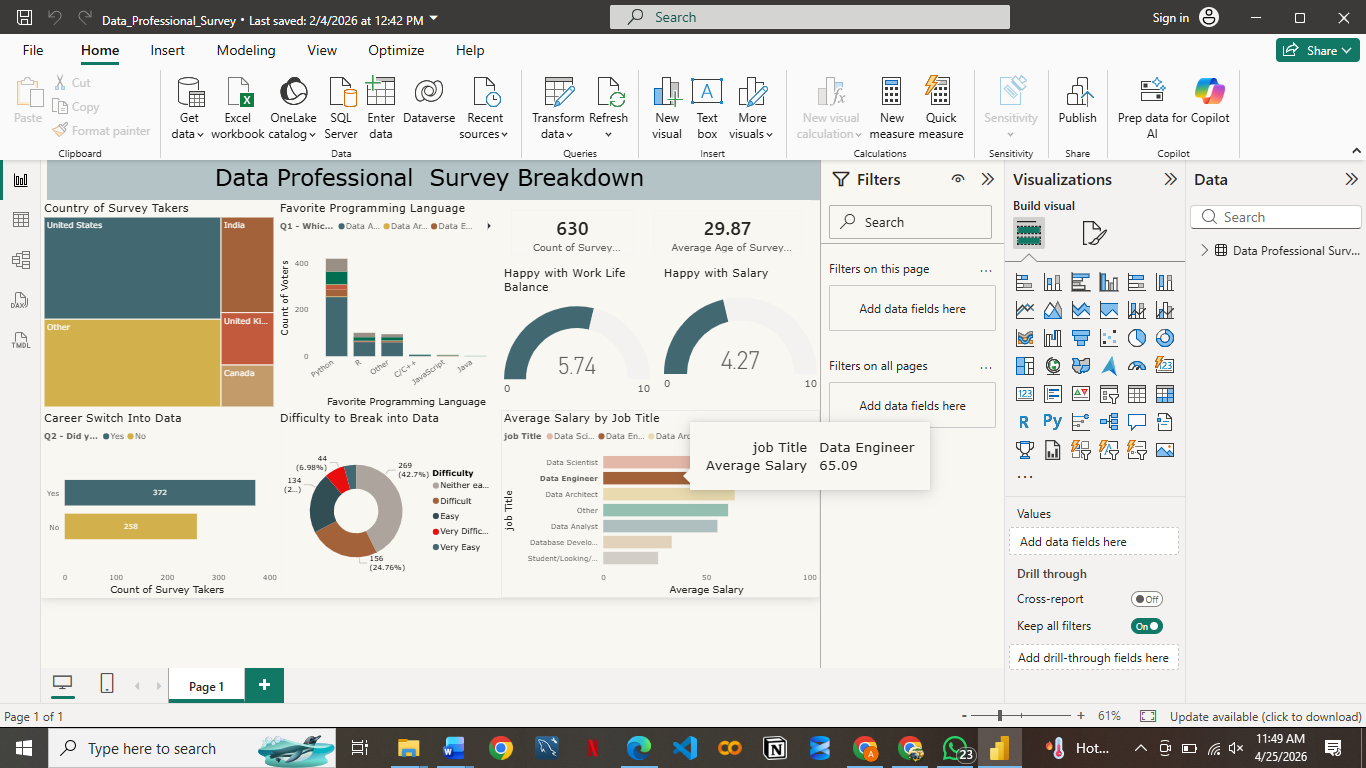

The page's visual inventory and layout, read from the dashboard file:
{"tool":"powerbi","page":{"name":"Page 1","canvas":[1280,720],"ordinal":0},"visuals":[{"type":"textbox","box":[10.1,0,1269.9,65.5],"z":0},{"type":"cardVisual","fields":{"Data":["Count(Data Professional Survey.Unique ID)"]},"box":[755.8,65.7,233.3,106.8],"z":1000},{"type":"cardVisual","fields":{"Data":["Avg(Data Professional Survey.Q10 - Current Age)"]},"box":[989.2,65.7,276,106.8],"z":2000},{"type":"barChart","title":"Average Salary by Job Title","fields":{"Category":["Data Professional Survey.Q1 - Which Title Best Fits your Current Role?.1"],"Y":["Avg(Data Professional Survey.Average Salary)"],"Series":["Data Professional Survey.Q1 - Which Title Best Fits your Current Role?.1"]},"box":[755.8,410.8,524.2,308.9],"z":3000},{"type":"columnChart","title":"Favorite Programming Language","fields":{"Category":["Data Professional Survey.Q5 - Favorite Programming Language.1"],"Y":["Count(Data Professional Survey.Unique ID)"],"Series":["Data Professional Survey.Q1 - Which Title Best Fits your Current Role?.1"]},"box":[387.8,65.7,368.1,345.1],"z":4000},{"type":"gauge","title":"Happy with Work Life Balance","fields":{"Y":["Avg(Data Professional Survey.Q6 - How Happy are you in your Current Position with the following? (Work/Life Balance))"],"MinValue":["Min(Data Professional Survey.Q6 - How Happy are you in your Current Position with the following? (Work/Life Balance))1"],"MaxValue":["Max(Data Professional Survey.Q6 - How Happy are you in your Current Position with the following? (Work/Life Balance))2"]},"box":[755.8,172.5,249.8,238.3],"z":5000},{"type":"gauge","title":"Happy with Salary","fields":{"Y":["Avg(Data Professional Survey.Q6 - How Happy are you in your Current Position with the following? (Salary))"],"MinValue":["Min(Data Professional Survey.Q6 - How Happy are you in your Current Position with the following? (Salary))"],"MaxValue":["Max(Data Professional Survey.Q6 - How Happy are you in your Current Position with the following? (Salary))"]},"box":[1018.7,172.5,261.3,238.3],"z":6000},{"type":"donutChart","title":"Difficulty to Break into Data","fields":{"Category":["Data Professional Survey.Q7 - How difficult was it for you to break into Data?"],"Y":["CountNonNull(Data Professional Survey.Q7 - How difficult was it for you to break into Data?)"]},"box":[387.8,410.8,368.1,308.9],"z":7000},{"type":"barChart","title":"Career Switch Into Data","fields":{"Category":["Data Professional Survey.Q2 - Did you switch careers into Data?"],"Y":["Count(Data Professional Survey.Unique ID)"],"Series":["Data Professional Survey.Q2 - Did you switch careers into Data?"]},"box":[0,410.8,392.7,308.9],"z":8000},{"type":"treemap","title":"Country of Survey Takers","fields":{"Group":["Data Professional Survey.Q11 - Which Country do you live in?.1"],"Values":["CountNonNull(Data Professional Survey.Q11 - Which Country do you live in?.1)"]},"box":[0,65.7,387.8,345.1],"z":9000}]}

Visuals, with their boxes in screenshot pixels (x1, y1, x2, y2):
textbox: left=32, top=0, right=1365, bottom=33
cardVisual - Count(Data Professional Survey.Unique ID): left=817, top=34, right=1062, bottom=146
cardVisual - Avg(Data Professional Survey.Q10 - Current Age): left=1062, top=34, right=1353, bottom=146
"Average Salary by Job Title" barChart: left=817, top=397, right=1365, bottom=722
"Favorite Programming Language" columnChart: left=429, top=34, right=817, bottom=397
"Happy with Work Life Balance" gauge: left=817, top=146, right=1080, bottom=397
"Happy with Salary" gauge: left=1093, top=146, right=1365, bottom=397
"Difficulty to Break into Data" donutChart: left=429, top=397, right=817, bottom=722
"Career Switch Into Data" barChart: left=21, top=397, right=435, bottom=722
"Country of Survey Takers" treemap: left=21, top=34, right=429, bottom=397
